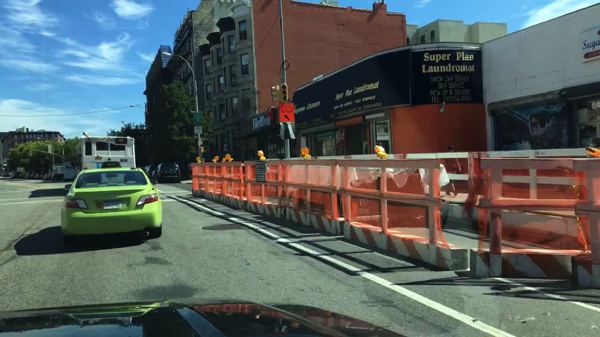car: (60, 167, 163, 242), (153, 162, 182, 184), (144, 165, 158, 179), (35, 172, 44, 181), (24, 171, 32, 179), (43, 172, 49, 182), (15, 171, 22, 179), (30, 172, 37, 180), (47, 172, 54, 180), (4, 172, 11, 178), (9, 171, 15, 178), (139, 166, 146, 172), (20, 171, 25, 179), (1, 171, 5, 178), (0, 170, 2, 177)
person: (441, 146, 462, 198), (187, 161, 192, 178)
traffic light: (270, 84, 281, 103), (279, 83, 289, 103), (198, 146, 205, 154), (28, 151, 34, 158)
traffic sign: (279, 103, 296, 123), (192, 112, 202, 123), (194, 125, 203, 134), (198, 138, 204, 147), (193, 123, 203, 127)
truck: (76, 131, 136, 170), (62, 161, 76, 182), (50, 163, 64, 183)
